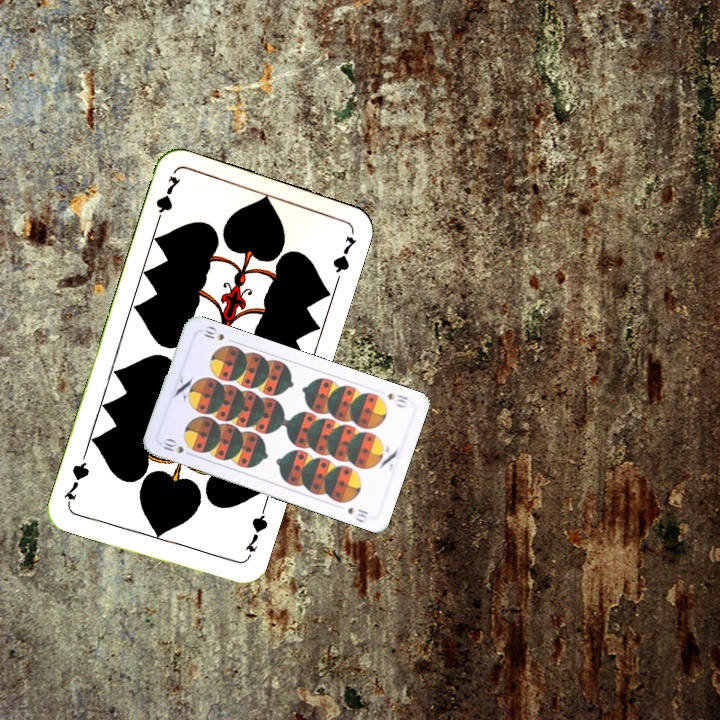G7: (151, 171, 183, 229), (241, 505, 271, 555)
S10: (157, 435, 187, 456), (384, 389, 411, 410)
